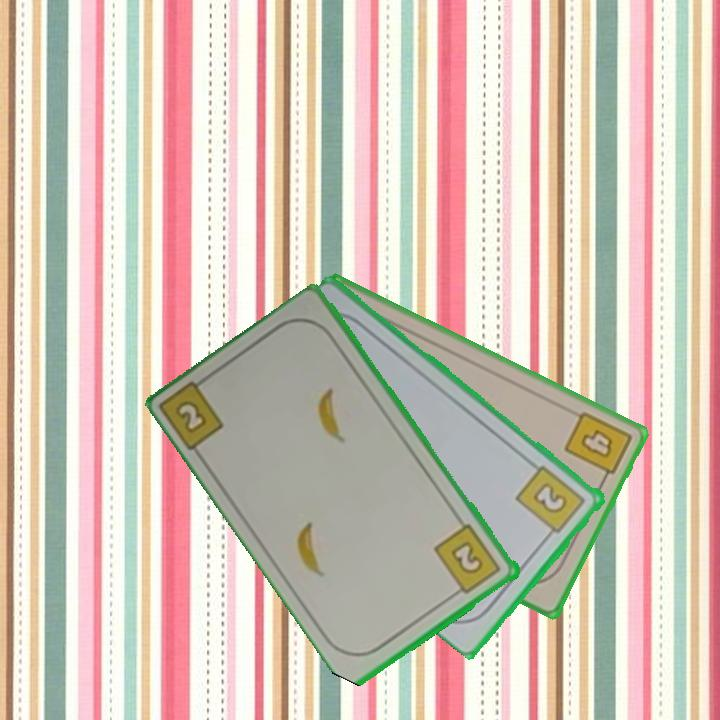2b: (513, 462, 589, 542), (159, 370, 228, 455), (431, 520, 504, 600)
4b: (560, 407, 635, 487)
